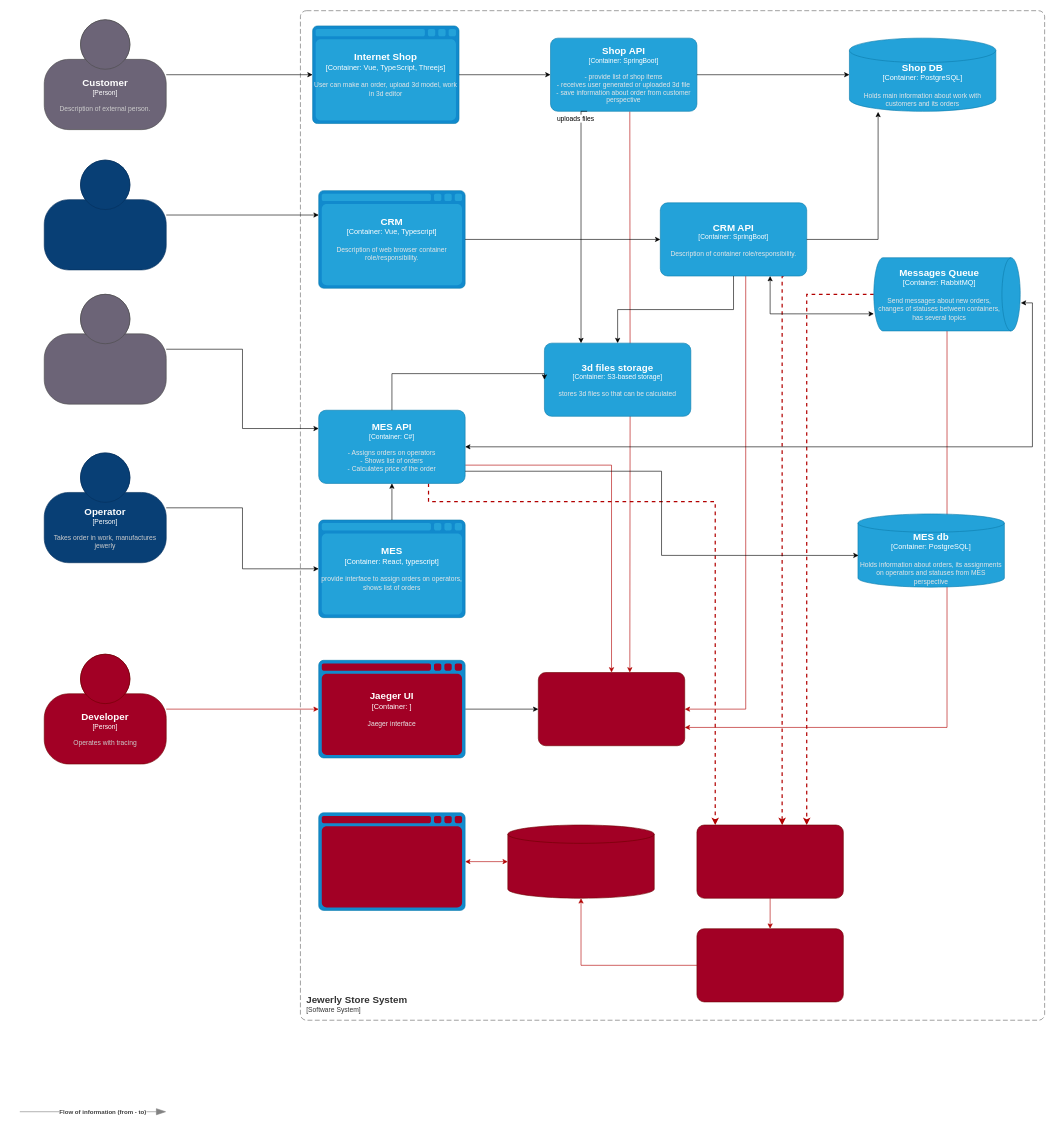
Some shapes in this 1055 by 1132 pixel diagram are drawn without their labels. The centre of each missing label's shape, as x and y in pixels:
"API user [Person] Description of external person." goes at point (105, 349).
"Elasticsearch [Container: ] Holds logs information" goes at point (580, 861).
"Filebeat [Container: ] Log agent" goes at point (769, 861).
"Jaeger [Container: ] Holding telimetry" goes at point (611, 709).
"Kibana [Container: ] Web UI" goes at point (391, 861).
"Logstash [Container: ] Log server" goes at point (769, 965).
"Seller [Person] Operates with order, confirms manufacturing for the user" goes at point (105, 215).
